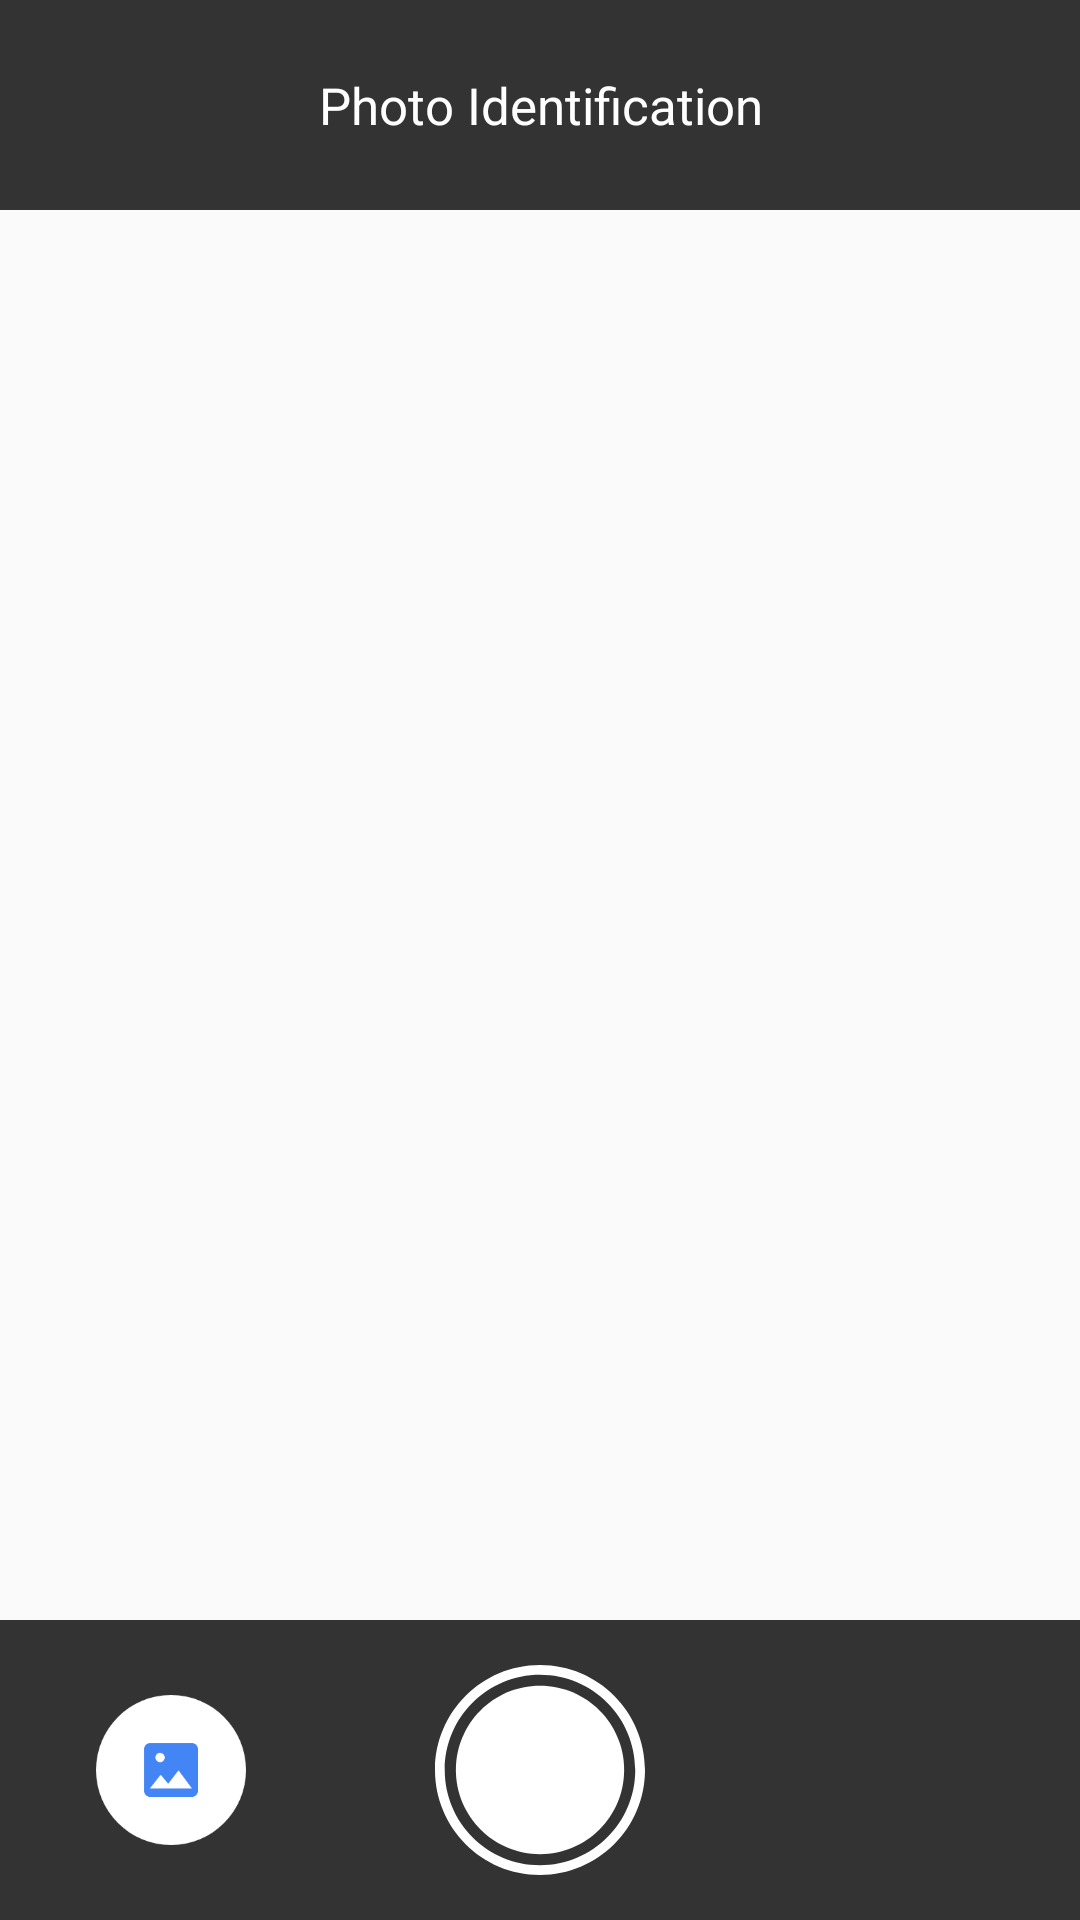

Screen size 1080x1920. Icon name, then its box in pixels as (x1, y1, x2, y2):
gallery picker: (96, 1695, 246, 1845)
